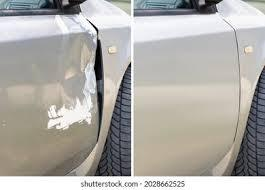scratch: (44, 12, 104, 137)
